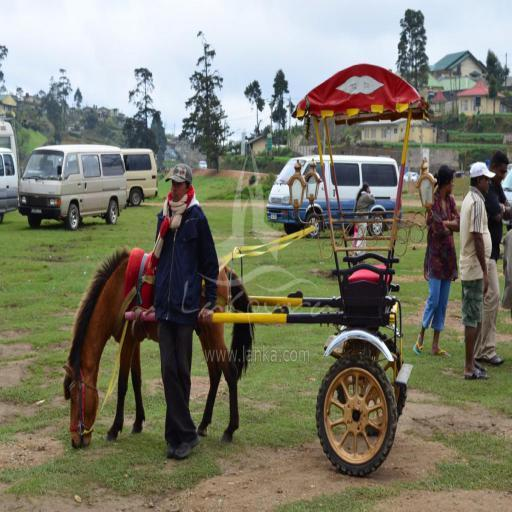horse: (62, 243, 256, 448)
